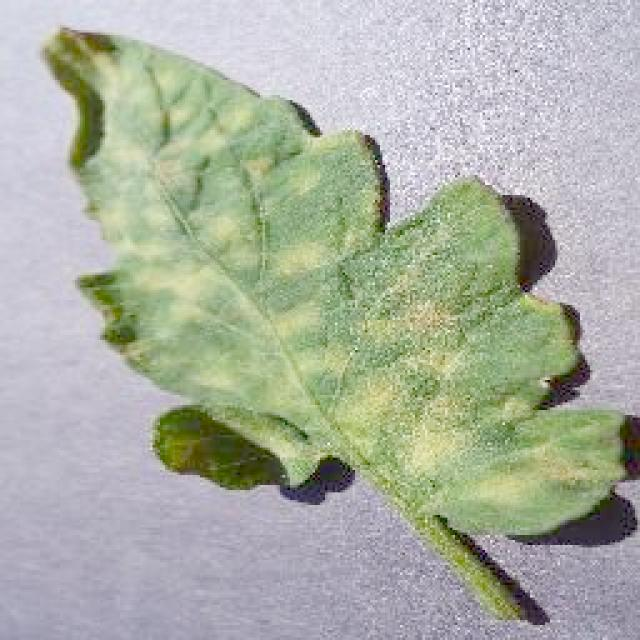Tomato mold leaf: (42, 21, 630, 542)
